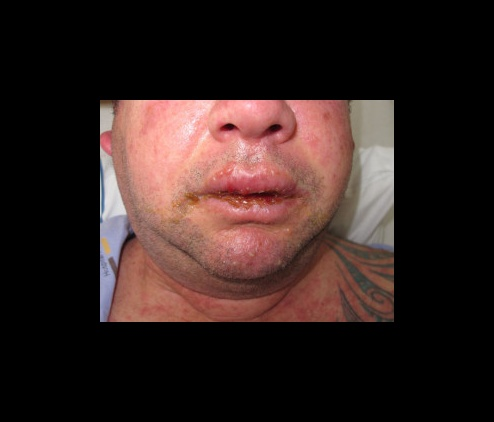SJS-TEN: (95, 97, 399, 325)
